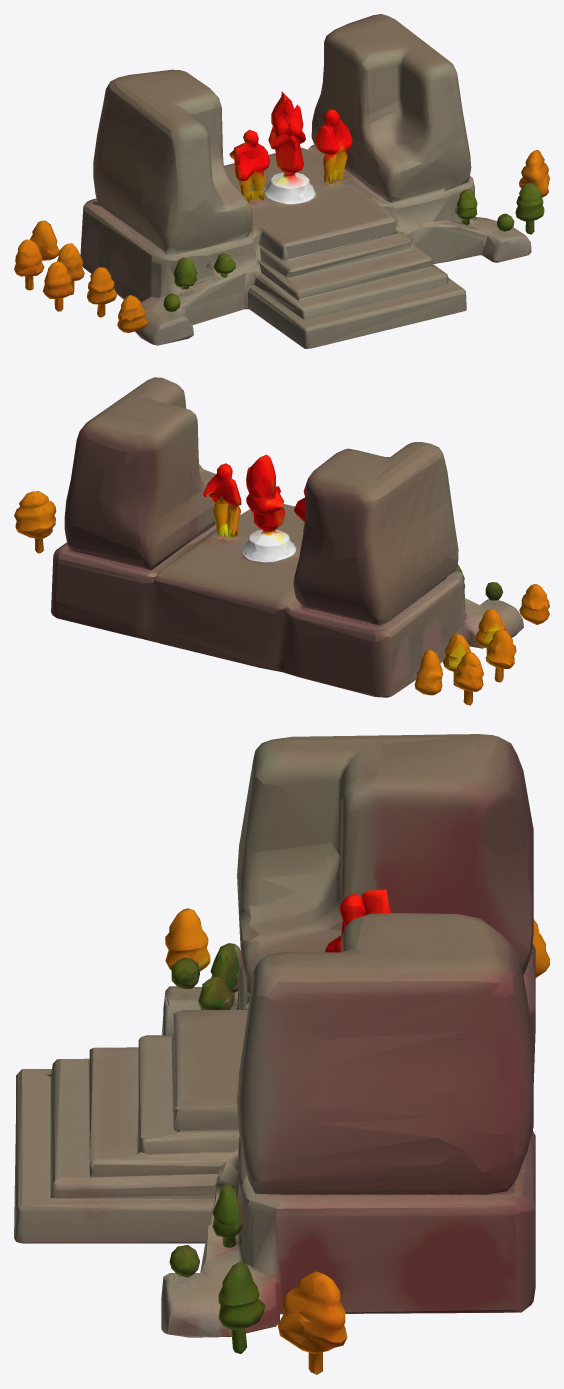
The model's file is hub_panfilov_monument.glb.
The picture shows the model from 3 angles, top to bottom: view 1: azimuth 30°, elevation 25°; view 2: azimuth 150°, elevation 25°; view 3: azimuth 270°, elevation 25°; orthographic projection. The views are drawn at different scales.
Size of the model in its own units: 1.91 by 0.6967 by 1.03.
Materials: 1 (1 with a texture image).
